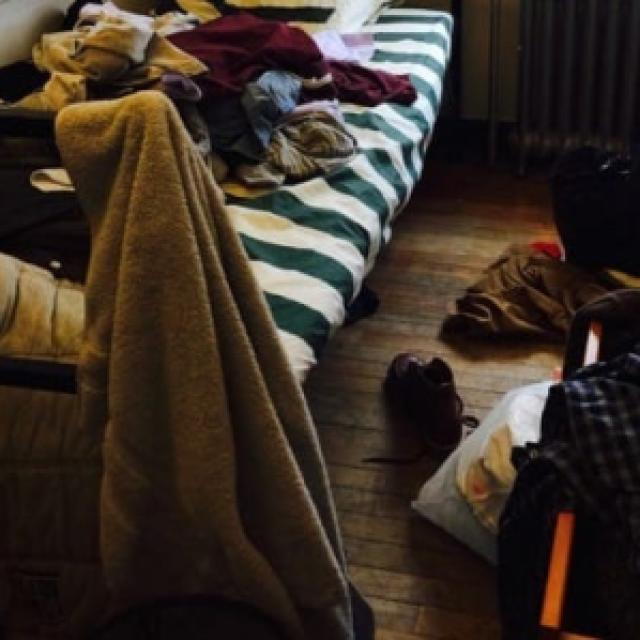scattered-items: (12, 2, 373, 287)
